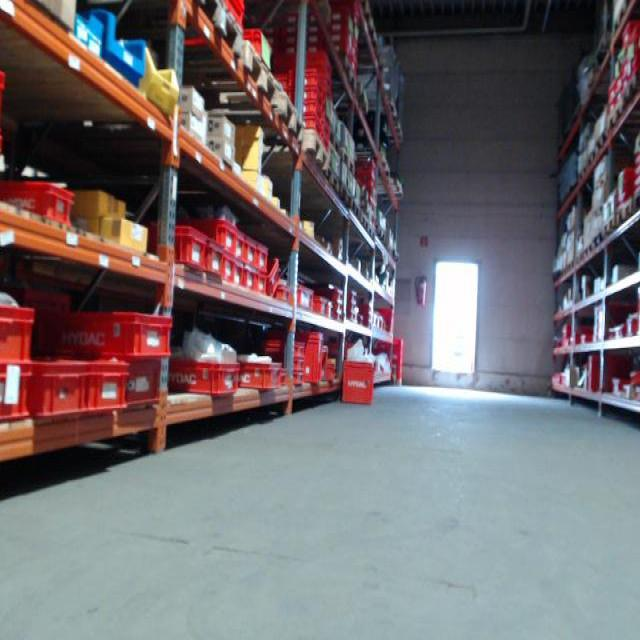pallet: (96, 2, 246, 72), (172, 39, 286, 123), (254, 87, 310, 156), (286, 123, 332, 182), (312, 162, 344, 201), (334, 140, 357, 175), (607, 104, 626, 143), (622, 75, 638, 118), (321, 130, 344, 159), (616, 197, 634, 232), (601, 215, 616, 244), (342, 189, 353, 214), (633, 193, 640, 217)
small_load_carrier: (40, 307, 175, 356), (4, 176, 77, 228), (169, 359, 248, 398), (31, 361, 84, 419), (147, 221, 204, 271), (2, 299, 40, 359), (84, 365, 129, 413), (2, 360, 35, 421), (126, 359, 163, 408), (235, 360, 285, 396), (341, 360, 374, 406), (297, 328, 321, 386), (196, 221, 235, 254), (275, 285, 316, 312), (265, 256, 287, 298), (259, 339, 306, 355), (202, 241, 220, 282), (291, 68, 323, 90), (275, 369, 304, 387), (291, 97, 318, 116), (218, 256, 234, 285), (273, 355, 306, 369), (243, 231, 256, 265), (244, 264, 256, 297), (227, 262, 243, 285), (256, 241, 267, 271), (252, 275, 267, 296), (311, 295, 326, 316), (301, 116, 317, 133), (291, 89, 322, 97), (322, 349, 330, 379), (235, 227, 242, 260), (331, 366, 336, 381)
